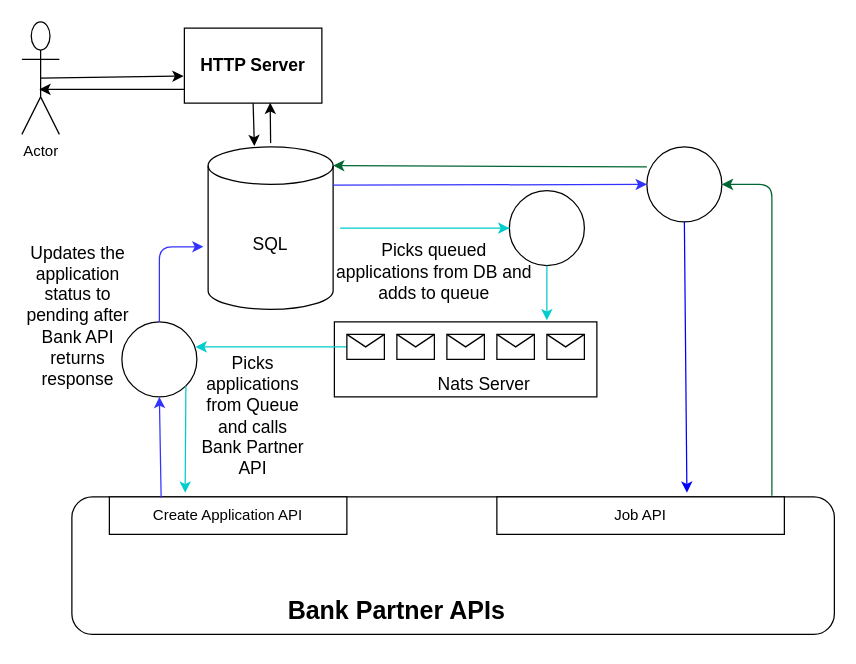
Image size: 856x664. Some labels were removed from this diagram. The shapes that lost their labels are listed below. From the top down, each one's centre as x and y in pixels, then its label:
point 684,184: Sync Job
point 546,227: Queue Job
point 159,359: Creator Job
